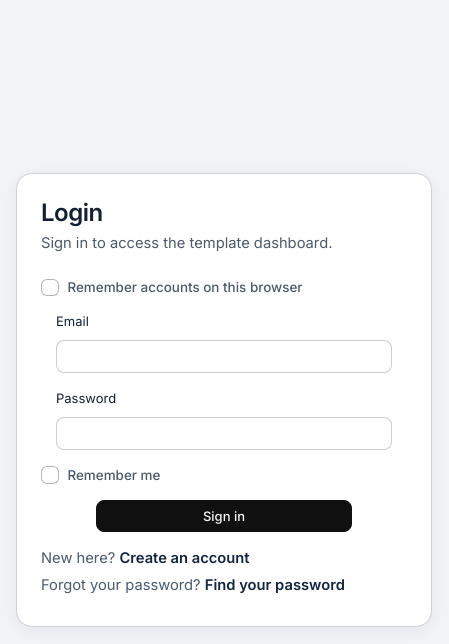
Test: LoginPage › navigates to home after successful login
// valid credentials are submitted.
Type "seeded-primary@example.com" into the field labelled "Email" at (224, 356), box [56, 340, 392, 373]
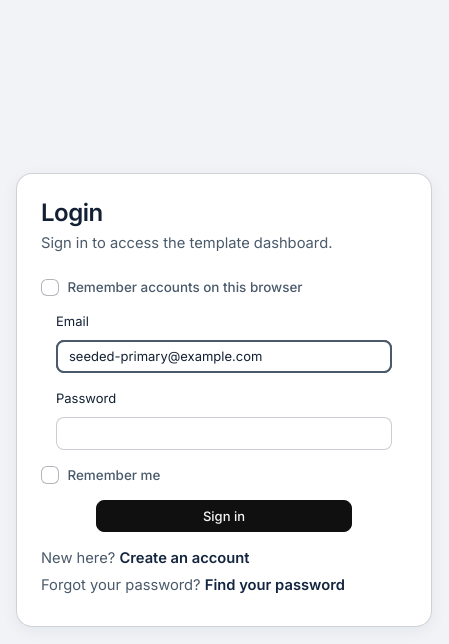
Type "SeededPass1!" into the password field labelled "Password" at (224, 433), box [56, 417, 392, 450]
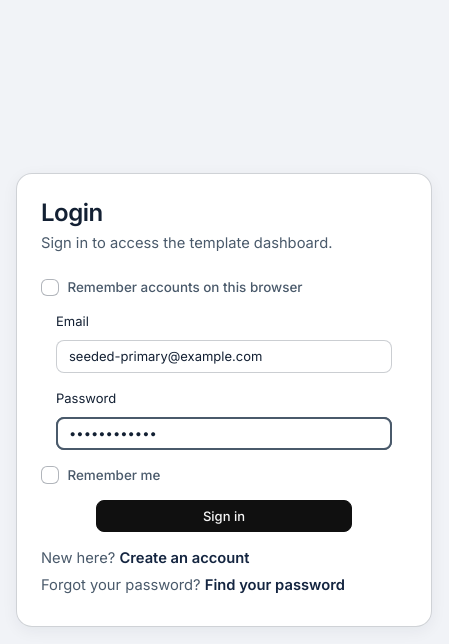
Click the button "Sign in" at (224, 516), box [96, 500, 352, 532]
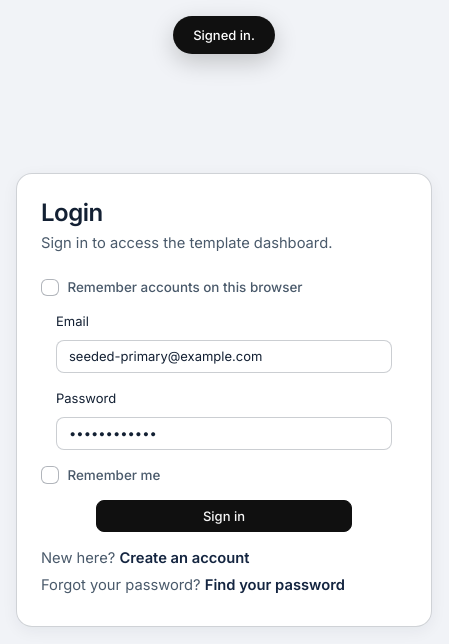
Result: the text "Signed in." is shown at [173, 16, 275, 54]
